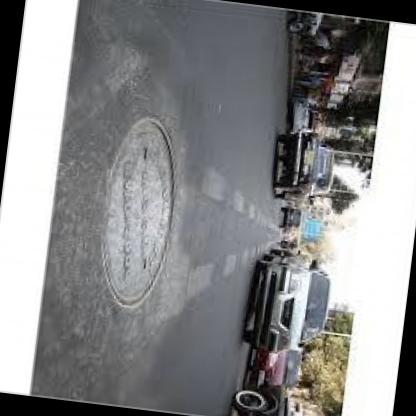manholes: (62, 81, 212, 336)
